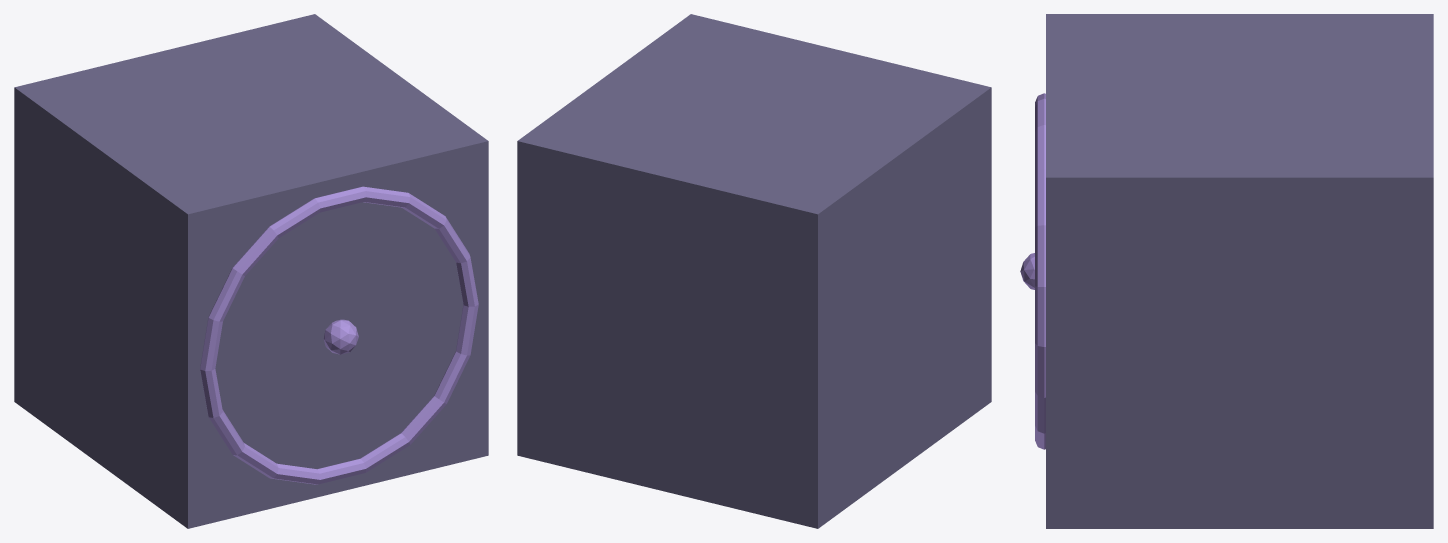
Rendered from dunkel.glb.
3 renders of one model, left to right at view 1: azimuth 30°, elevation 25°; view 2: azimuth 150°, elevation 25°; view 3: azimuth 270°, elevation 25°, orthographic. The views are drawn at different scales.
Parts seen in each view (by area): view 1: world; view 2: world; view 3: world.
Boxes of the visible parts, x1,y1,x2,y2 form: world: [14, 14, 488, 528]; world: [517, 14, 991, 528]; world: [1020, 14, 1433, 528].
Bounding box in the file's own units: 1.05 × 1.05 × 1.12.
